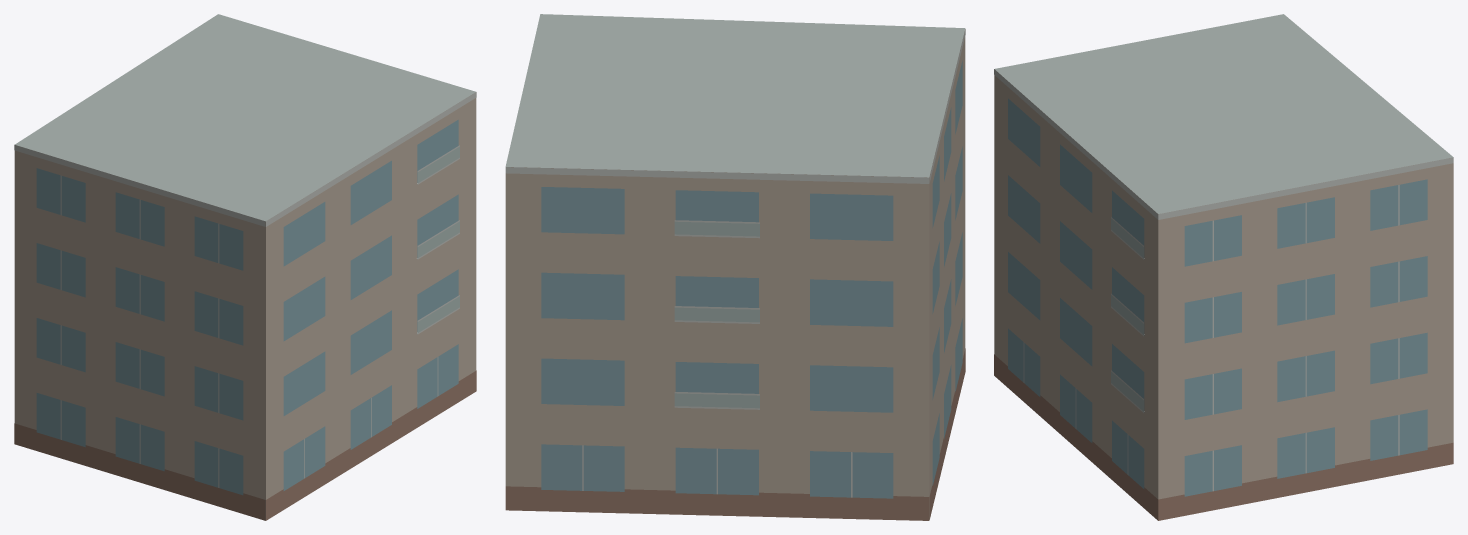
Rendered from survey-upis-32732578.glb.
The picture shows the model from 3 angles, left to right: view 1: azimuth 30°, elevation 25°; view 2: azimuth 150°, elevation 25°; view 3: azimuth 270°, elevation 25°; orthographic projection. The views are drawn at different scales.
Parts seen in each view (by area): view 1: survey-upis-32732578.tmp; view 2: survey-upis-32732578.tmp; view 3: survey-upis-32732578.tmp.
Part boxes in pixels (box(x1,y1,x2,y2)): survey-upis-32732578.tmp: box(14, 14, 476, 520); survey-upis-32732578.tmp: box(505, 14, 965, 520); survey-upis-32732578.tmp: box(994, 14, 1453, 520).
Size of the model in its own units: 17.93 by 12.8 by 17.39.
